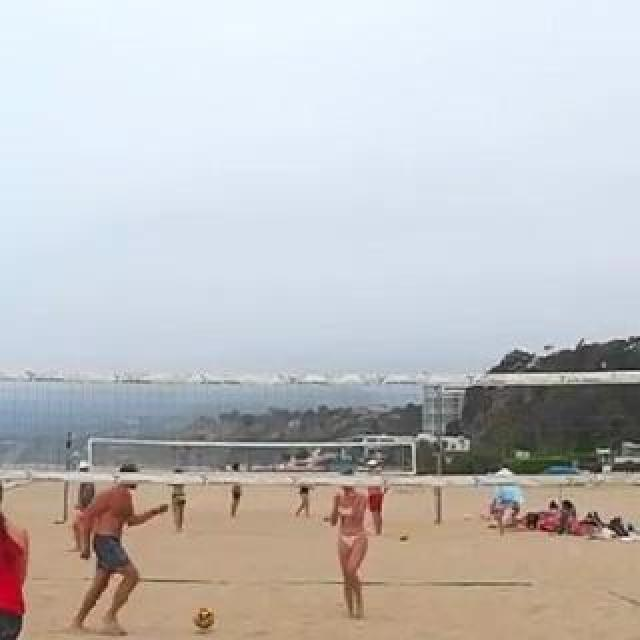volleyball: (194, 608, 214, 628), (399, 534, 407, 542)
